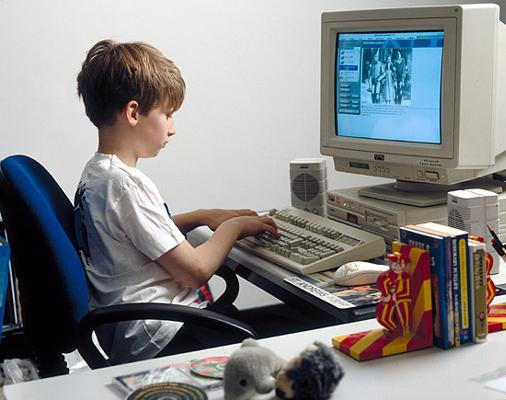person: (75, 40, 280, 362)
